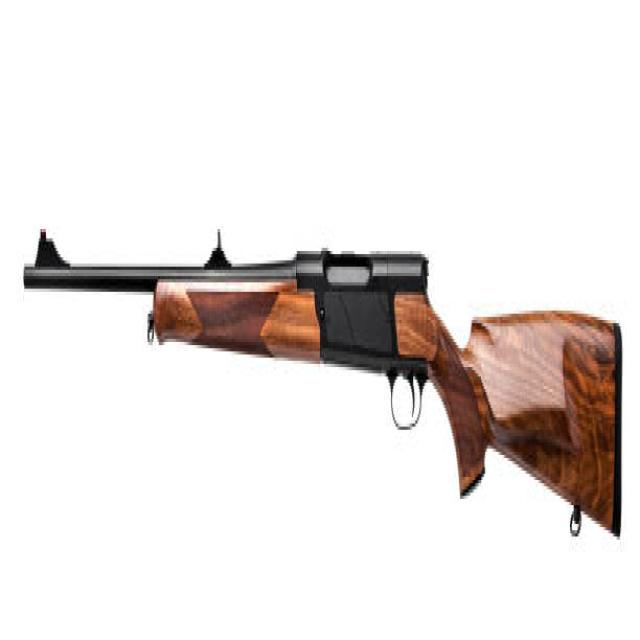rifle: (18, 227, 630, 555)
